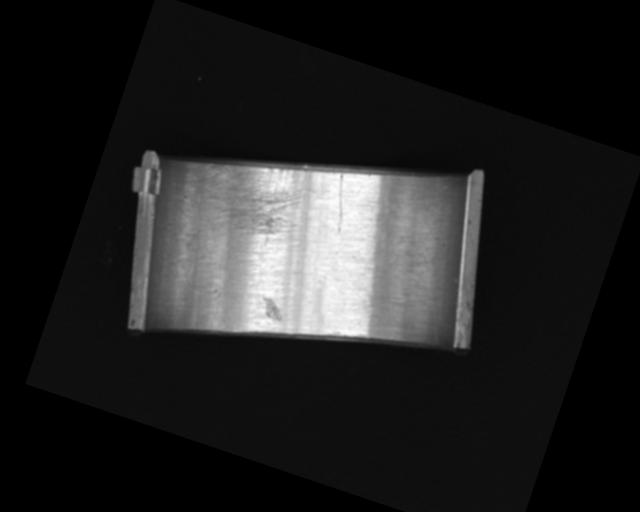bruise: (257, 296, 287, 322)
nick: (396, 254, 463, 346), (322, 172, 359, 233)
scratch: (187, 135, 317, 253)
